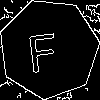F: (24, 24, 60, 73)
